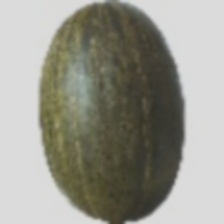honeydew: (6, 18, 199, 212)
